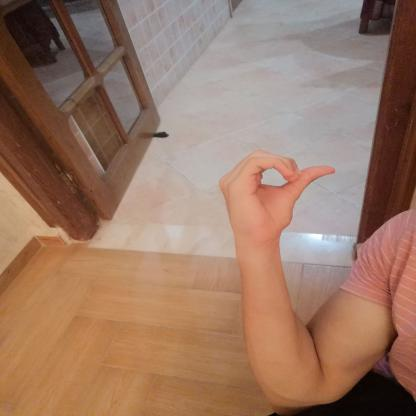WAW: (204, 140, 346, 250)
